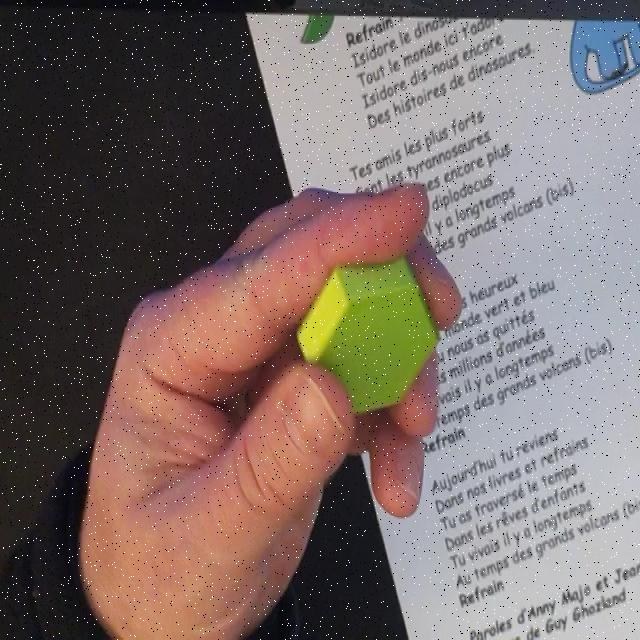hexagon: (298, 260, 439, 418)
